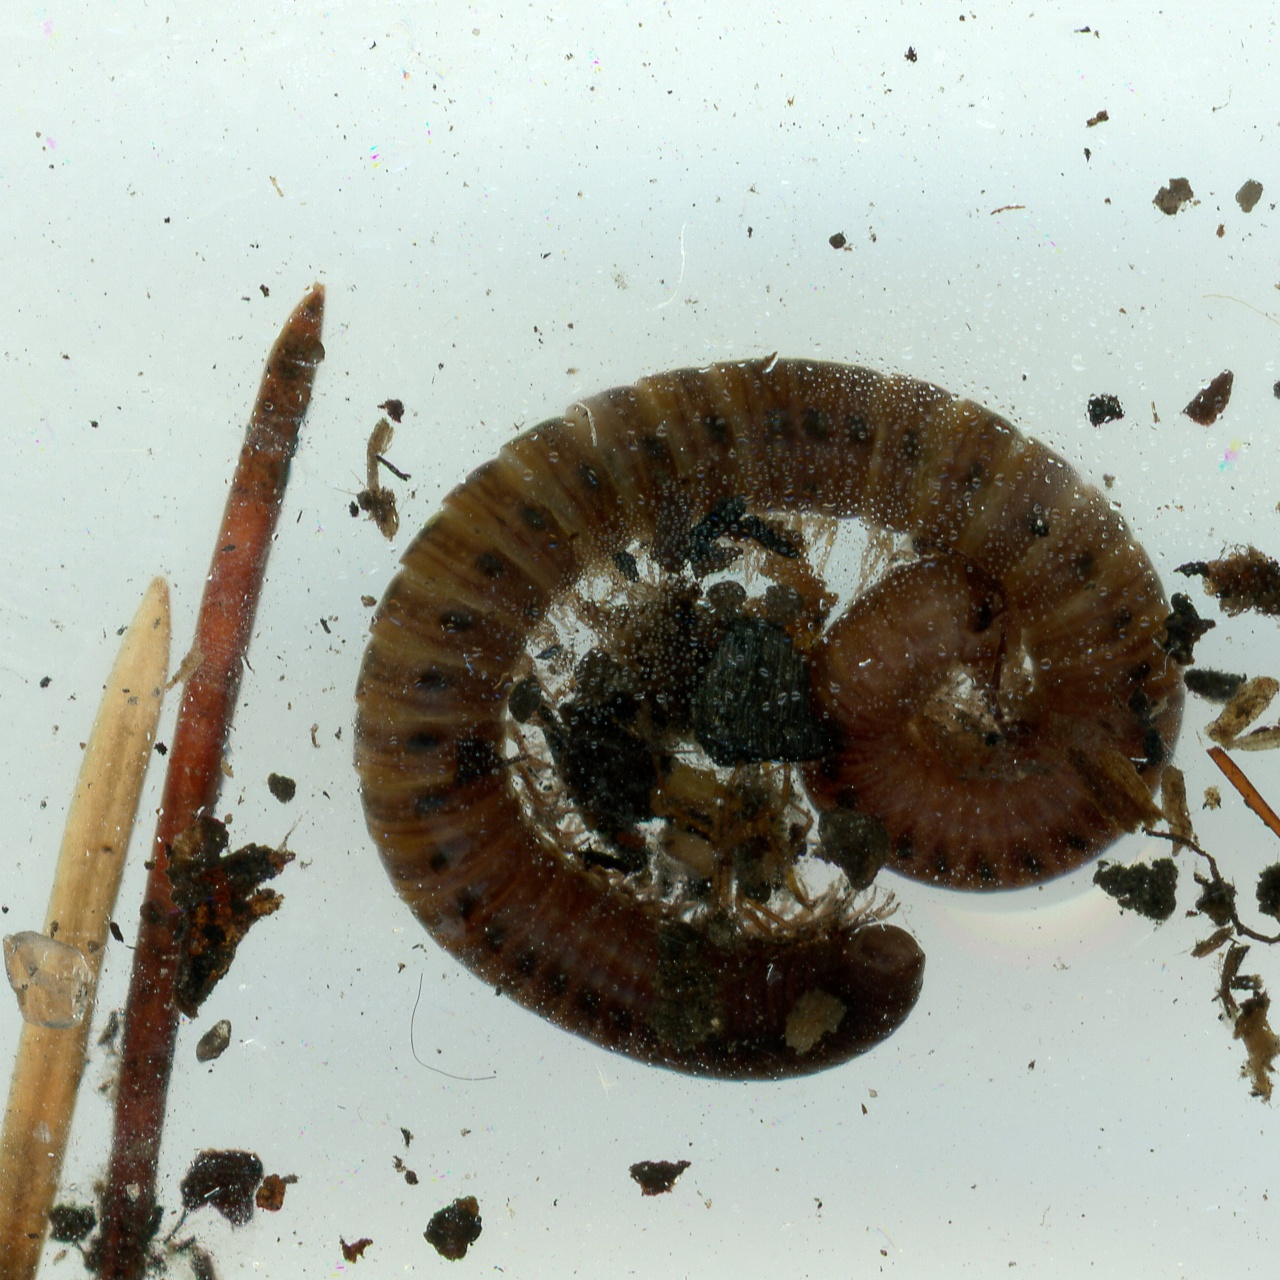arthropod: (341, 353, 1186, 1085), (331, 468, 407, 550)
